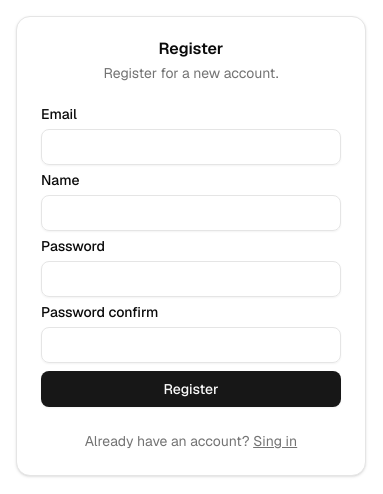
Test: RegisterPage › submits registration data and shows the success state
Type "user@example.com" into the field labelled "Email". click: (191, 147)
box: top-left (41, 129), bottom-right (341, 165)
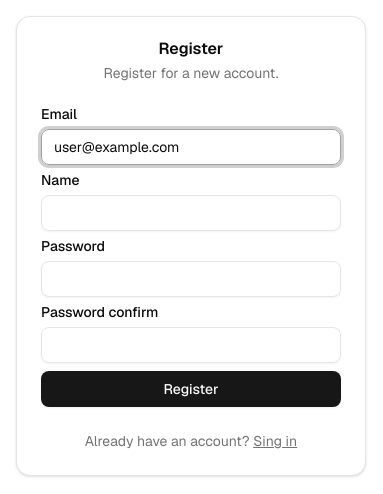
Type "Test User" into the field labelled "Name". click: (191, 213)
box: top-left (41, 195), bottom-right (341, 231)
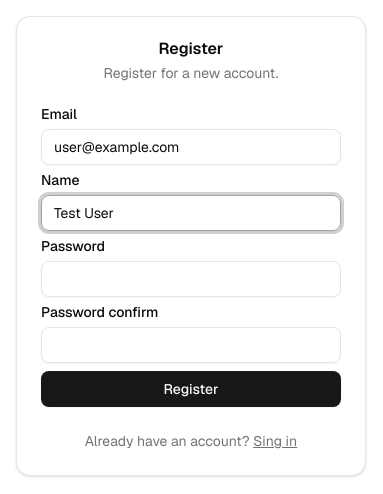
Type "strongPassword" into the password field labelled "Password". click: (191, 279)
box: top-left (41, 261), bottom-right (341, 297)
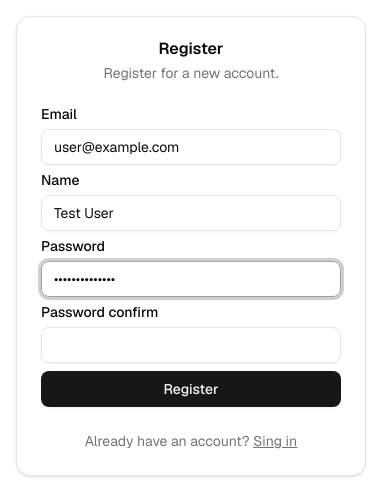
Type "strongPassword" into the password field labelled "Password confirm". click: (191, 345)
box: top-left (41, 327), bottom-right (341, 363)
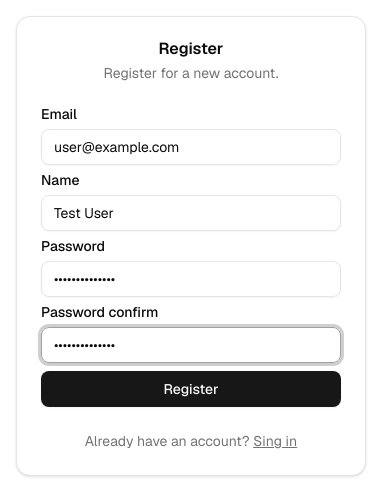
Click the button "Register". click: (191, 389)
box: top-left (41, 371), bottom-right (341, 407)
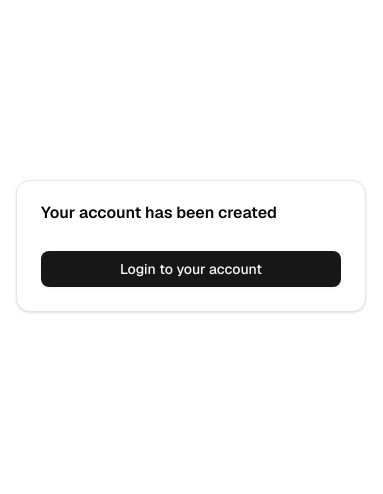
Expected: the text "Your account has been created" is shown, top-left (41, 202), bottom-right (277, 223)
